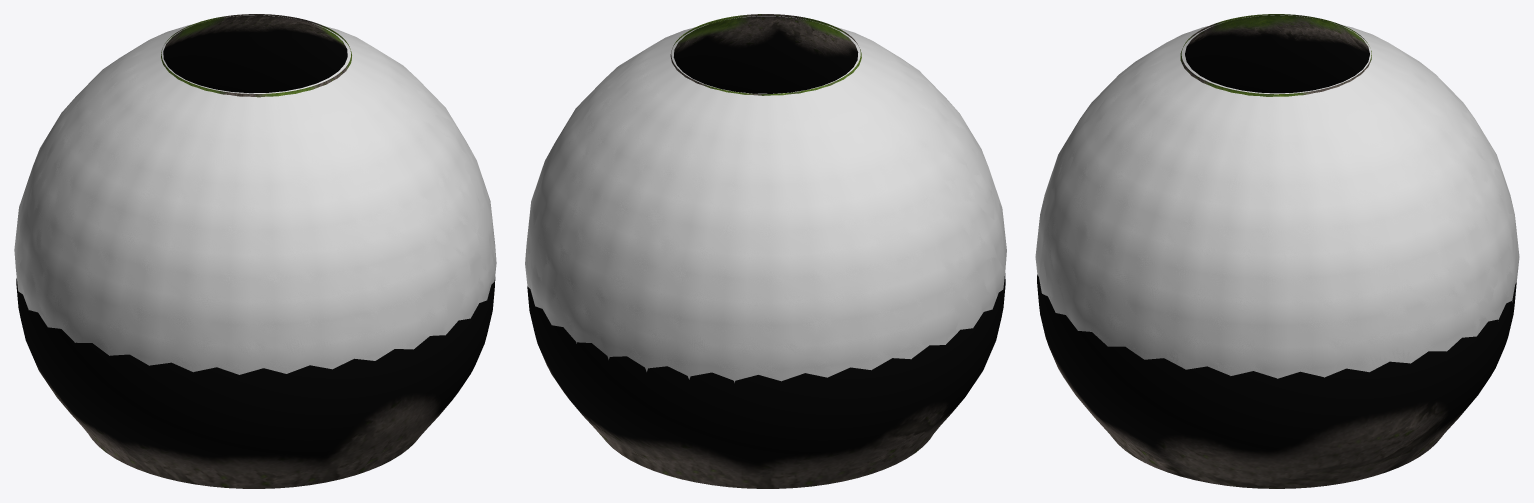
The model's file is GlassBottleAdjusted.fbx.
3 renders of one model, left to right at view 1: azimuth 30°, elevation 25°; view 2: azimuth 150°, elevation 25°; view 3: azimuth 270°, elevation 25°, orthographic.
Visible parts, largest first — view 1: Smallerhilt bottle, Sphere.002, GlassBottle; view 2: Smallerhilt bottle, Sphere.002, GlassBottle; view 3: Smallerhilt bottle, Sphere.002, GlassBottle.
Part boxes in pixels (left/top/right/bottom): Smallerhilt bottle: left=14, top=16, right=496, bottom=374; Sphere.002: left=14, top=15, right=496, bottom=374; GlassBottle: left=16, top=14, right=495, bottom=488; Smallerhilt bottle: left=525, top=16, right=1006, bottom=382; Sphere.002: left=525, top=16, right=1006, bottom=381; GlassBottle: left=527, top=14, right=1005, bottom=488; Smallerhilt bottle: left=1035, top=15, right=1519, bottom=378; Sphere.002: left=1036, top=15, right=1517, bottom=378; GlassBottle: left=1037, top=14, right=1516, bottom=488.
Bounding box in the file's own units: 270 × 224 × 270.
